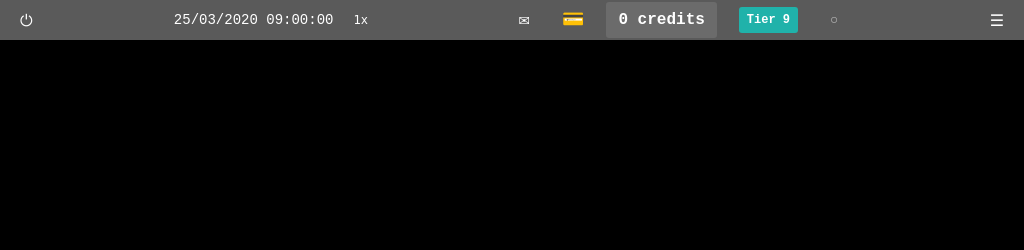
Test: Bandwidth Info Integration › Adapter Speed Display › should show "Total: 31.3 MB/s" for default adapter
Hover over the element with class "topbar-bandwidth" at (834, 20), box [830,12,838,28]
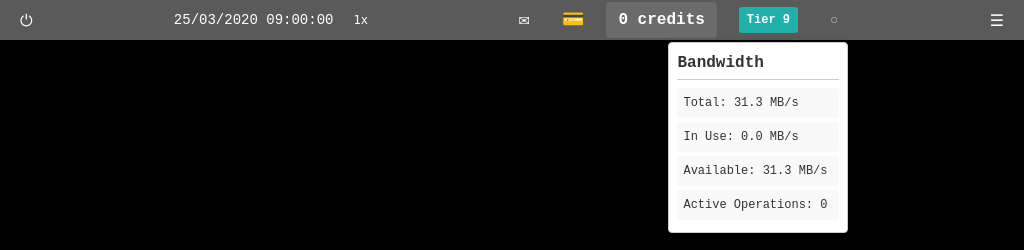
Now the text "Total: 31.3 MB/s" is shown, box [678,88,840,118]
